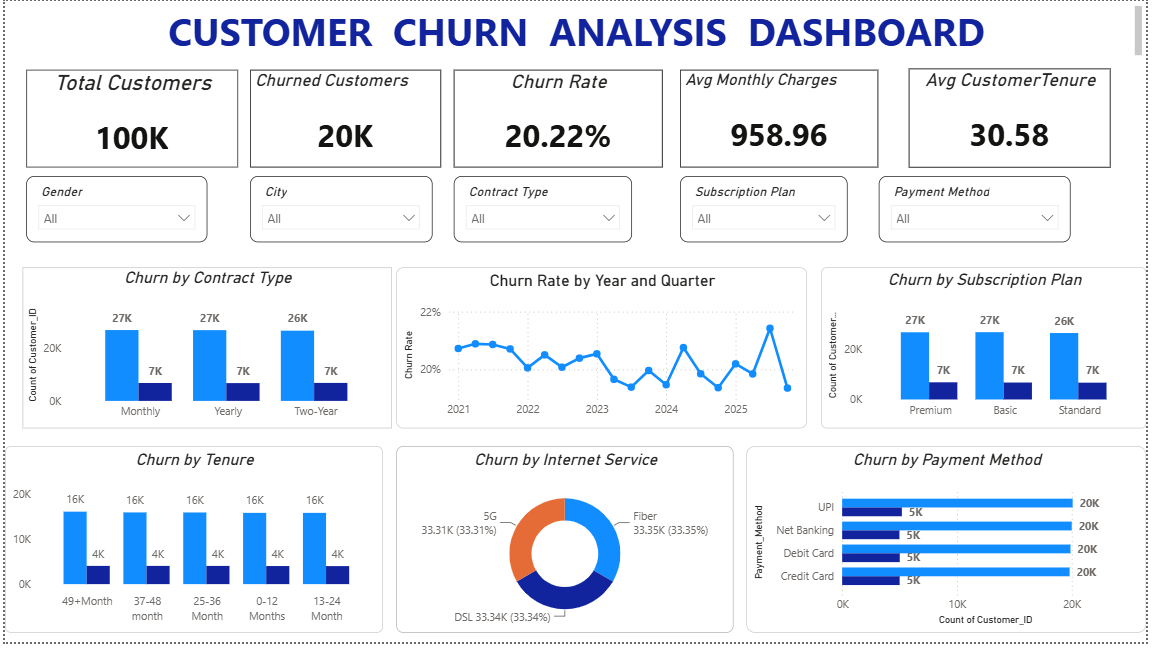

The dashboard page shown, as its layout file describes it:
{"tool":"powerbi","page":{"name":"Page 1","canvas":[1280,720],"ordinal":0},"visuals":[{"type":"textbox","box":[9.6,0,1270.7,65.9],"z":0},{"type":"cardVisual","title":"Total Customers","fields":{"Data":["Churn Data.Total Customers"]},"box":[23.3,76.8,237.4,109.8],"z":1000},{"type":"cardVisual","title":"Churned Customers","fields":{"Data":["Churn Data.Churned Customers"]},"box":[274.4,76.8,214.1,109.8],"z":2000},{"type":"cardVisual","title":"Churn Rate","fields":{"Data":["Churn Data.Churn Rate"]},"box":[503.6,76.8,234.6,109.8],"z":3000},{"type":"cardVisual","title":"Avg CustomerTenure","fields":{"Data":["Churn Data.Avg Tenure (month)"]},"box":[1014.1,75.5,226.4,111.1],"z":4000},{"type":"cardVisual","title":"Avg Monthly Charges","fields":{"Data":["Churn Data.Avg Monthly Charges"]},"box":[757.5,76.8,222.3,109.8],"z":5000},{"type":"clusteredColumnChart","title":"Churn by Contract Type","fields":{"Category":["Churn Data.Contract_Type"],"Series":["Churn Data.Churn_Status"],"Y":["CountNonNull(Churn Data.Customer_ID)"]},"box":[19.2,299.1,414.4,181.1],"z":6000},{"type":"clusteredColumnChart","title":"Churn by Subscription Plan","fields":{"Category":["Churn Data.Subscription_Plan"],"Y":["CountNonNull(Churn Data.Customer_ID)"],"Series":["Churn Data.Churn_Status"]},"box":[915.3,299.1,365,181.1],"z":7000},{"type":"clusteredBarChart","title":"Churn by Payment Method","fields":{"Category":["Churn Data.Payment_Method"],"Y":["CountNonNull(Churn Data.Customer_ID)"],"Series":["Churn Data.Churn_Status"]},"box":[831.6,499.5,448.7,209.9],"z":8000},{"type":"clusteredColumnChart","title":"Churn by Tenure","fields":{"Category":["Churn Data.Tenure Group"],"Y":["CountNonNull(Churn Data.Customer_ID)"],"Series":["Churn Data.Churn_Status"]},"box":[0,499.5,424,209.9],"z":9000},{"type":"donutChart","title":"Churn by Internet Service","fields":{"Category":["Churn Data.Internet_Service"],"Y":["CountNonNull(Churn Data.Customer_ID)"]},"box":[439.1,499.5,378.7,209.9],"z":10000},{"type":"lineChart","fields":{"Y":["Churn Data.Churn Rate"],"Category":["Churn Data.Join_Date.Variation.Date Hierarchy.Year","Churn Data.Join_Date.Variation.Date Hierarchy.Quarter"]},"box":[439.1,299.1,461.1,181.1],"z":11000},{"type":"slicer","fields":{"Values":["Churn Data.Gender"]},"box":[23.3,196.2,203.1,74.1],"z":12000},{"type":"slicer","title":"City","fields":{"Values":["Churn Data.City"]},"box":[274.4,196.2,204.5,74.1],"z":13000},{"type":"slicer","title":"City","fields":{"Values":["Churn Data.Contract_Type"]},"box":[503.6,196.2,200.3,74.1],"z":14000},{"type":"slicer","title":"City","fields":{"Values":["Churn Data.Subscription_Plan"]},"box":[757.5,196.2,188,74.1],"z":15000},{"type":"slicer","title":"City","fields":{"Values":["Churn Data.Payment_Method"]},"box":[979.8,196.2,215.4,74.1],"z":16000}]}

Visuals, with their boxes in screenshot pixels (x1, y1, x2, y2), scaled from the page's 1280x720 canvas onto the 1157x652 screenshot:
textbox: 9/0/1156/60
"Total Customers" cardVisual: 21/70/236/169
"Churned Customers" cardVisual: 248/70/442/169
"Churn Rate" cardVisual: 455/70/667/169
"Avg CustomerTenure" cardVisual: 917/68/1121/169
"Avg Monthly Charges" cardVisual: 685/70/886/169
"Churn by Contract Type" clusteredColumnChart: 17/271/392/435
"Churn by Subscription Plan" clusteredColumnChart: 827/271/1156/435
"Churn by Payment Method" clusteredBarChart: 752/452/1156/642
"Churn by Tenure" clusteredColumnChart: 0/452/383/642
"Churn by Internet Service" donutChart: 397/452/739/642
lineChart - Churn Data.Churn Rate x Churn Data.Join_Date.Variation.Date Hierarchy.Year: 397/271/814/435
slicer - Churn Data.Gender: 21/178/205/245
"City" slicer: 248/178/433/245
"City" slicer: 455/178/636/245
"City" slicer: 685/178/855/245
"City" slicer: 886/178/1080/245
